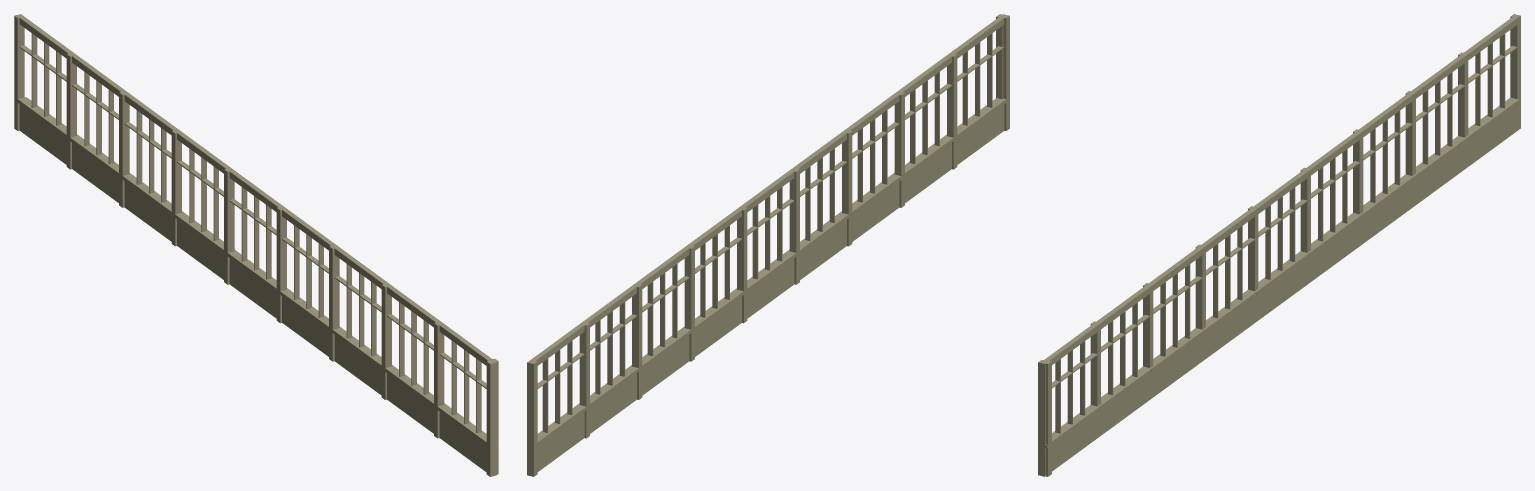
File: ParedeCefer.obj
3 renders of one model, left to right at view 1: azimuth 30°, elevation 25°; view 2: azimuth 150°, elevation 25°; view 3: azimuth 330°, elevation 25°, orthographic.
Visible parts, largest first — view 1: Mesh.068_Mesh.106_Plane.138, Mesh.047_Mesh.138_Plane.170, Mesh.070_Mesh.120_Plane.152, Mesh.072_Mesh.125_Plane.157, Mesh.071_Mesh.086_Plane.118, Mesh.033_Mesh.097_Plane.129, Mesh.057_Mesh.111_Plane.143, Mesh.067_Mesh.134_Plane.166, Mesh.053_Mesh.092_Plane.124, Mesh.088_Mesh.085_Plane.117, Mesh.073_Mesh.118_Plane.150, Mesh.054_Mesh.140_Plane.172 (+16 smaller); view 2: Mesh.068_Mesh.106_Plane.138, Mesh.070_Mesh.120_Plane.152, Mesh.047_Mesh.138_Plane.170, Mesh.072_Mesh.125_Plane.157, Mesh.071_Mesh.086_Plane.118, Mesh.033_Mesh.097_Plane.129, Mesh.057_Mesh.111_Plane.143, Mesh.067_Mesh.134_Plane.166, Mesh.053_Mesh.092_Plane.124, Mesh.073_Mesh.118_Plane.150, Mesh.093_Mesh.104_Plane.136, Mesh.054_Mesh.140_Plane.172 (+17 smaller); view 3: Mesh.072_Mesh.125_Plane.157, Mesh.068_Mesh.106_Plane.138, Mesh.047_Mesh.138_Plane.170, Mesh.070_Mesh.120_Plane.152, Mesh.073_Mesh.118_Plane.150, Mesh.054_Mesh.140_Plane.172, Mesh.049_Mesh.099_Plane.131, Mesh.093_Mesh.104_Plane.136, Mesh.058_Mesh.112_Plane.144, Mesh.046_Mesh.133_Plane.165, Mesh.063_Mesh.126_Plane.158, Mesh.096_Mesh.091_Plane.123 (+17 smaller).
Part boxes in pixels (box(x1,y1,x2,y2)): Mesh.068_Mesh.106_Plane.138: box(229, 170, 282, 290); Mesh.047_Mesh.138_Plane.170: box(19, 16, 72, 136); Mesh.070_Mesh.120_Plane.152: box(124, 93, 177, 213); Mesh.072_Mesh.125_Plane.157: box(72, 55, 125, 175); Mesh.071_Mesh.086_Plane.118: box(439, 324, 492, 444); Mesh.033_Mesh.097_Plane.129: box(334, 247, 387, 367); Mesh.057_Mesh.111_Plane.143: box(282, 209, 335, 328); Mesh.067_Mesh.134_Plane.166: box(177, 132, 230, 252); Mesh.053_Mesh.092_Plane.124: box(387, 285, 440, 405); Mesh.088_Mesh.085_Plane.117: box(437, 404, 498, 472); Mesh.073_Mesh.118_Plane.150: box(122, 174, 183, 241); Mesh.054_Mesh.140_Plane.172: box(17, 97, 78, 164); Mesh.068_Mesh.106_Plane.138: box(741, 170, 794, 290); Mesh.070_Mesh.120_Plane.152: box(636, 247, 689, 367); Mesh.047_Mesh.138_Plane.170: box(531, 324, 584, 443); Mesh.072_Mesh.125_Plane.157: box(583, 285, 636, 405); Mesh.071_Mesh.086_Plane.118: box(951, 16, 1004, 136); Mesh.033_Mesh.097_Plane.129: box(846, 93, 899, 213); Mesh.057_Mesh.111_Plane.143: box(793, 132, 846, 252); Mesh.067_Mesh.134_Plane.166: box(688, 209, 741, 328); Mesh.053_Mesh.092_Plane.124: box(898, 55, 951, 175); Mesh.073_Mesh.118_Plane.150: box(642, 326, 694, 395); Mesh.093_Mesh.104_Plane.136: box(747, 249, 799, 318); Mesh.054_Mesh.140_Plane.172: box(537, 403, 589, 471); Mesh.072_Mesh.125_Plane.157: box(1411, 55, 1464, 175); Mesh.068_Mesh.106_Plane.138: box(1254, 171, 1307, 290); Mesh.047_Mesh.138_Plane.170: box(1464, 17, 1517, 126); Mesh.070_Mesh.120_Plane.152: box(1359, 94, 1412, 202); Mesh.073_Mesh.118_Plane.150: box(1360, 174, 1414, 243); Mesh.054_Mesh.140_Plane.172: box(1465, 97, 1518, 166); Mesh.049_Mesh.099_Plane.131: box(1150, 328, 1204, 396); Mesh.093_Mesh.104_Plane.136: box(1255, 251, 1309, 320); Mesh.058_Mesh.112_Plane.144: box(1203, 289, 1256, 358); Mesh.046_Mesh.133_Plane.165: box(1307, 213, 1361, 281); Mesh.063_Mesh.126_Plane.158: box(1413, 136, 1466, 204); Mesh.096_Mesh.091_Plane.123: box(1097, 366, 1151, 435).
Size of the model in its own units: 0.5482 by 6.37 by 48.67.
